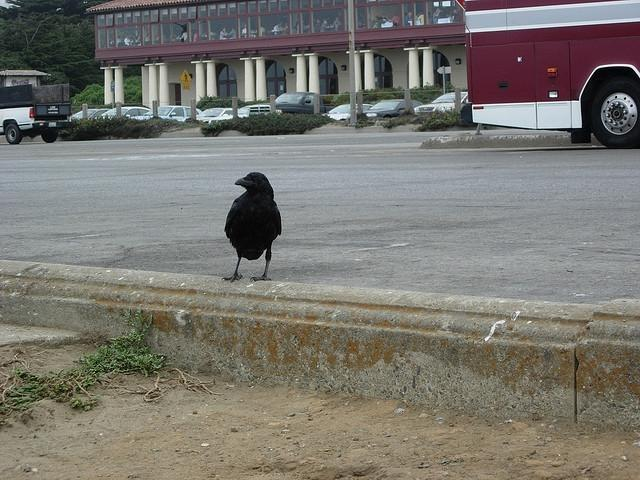car: (416, 90, 472, 122), (368, 98, 423, 120), (139, 105, 200, 124), (95, 104, 152, 120), (320, 104, 374, 120), (194, 107, 233, 126), (68, 107, 110, 122), (238, 104, 271, 118)
truck: (464, 0, 640, 152), (0, 84, 71, 144), (275, 92, 326, 114)
